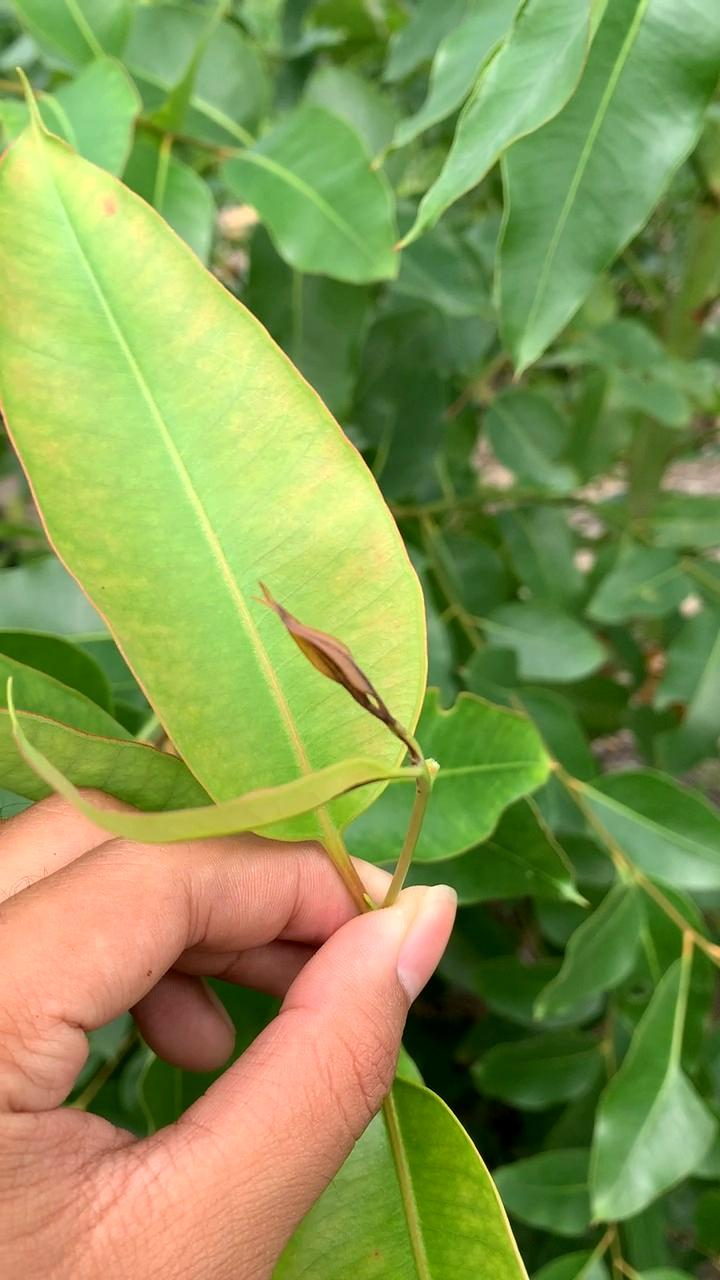Helopeltis-Withered Sprout: (243, 578, 429, 783)
